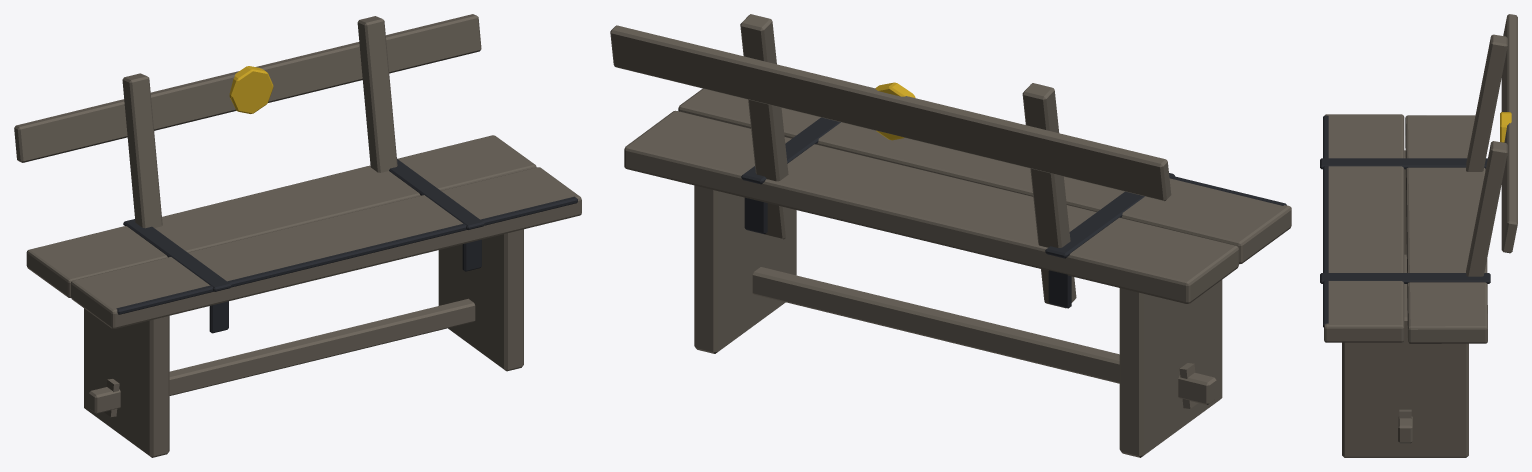
The model's file is SM_Bench_KeepGarrison_03.fbx.
3 renders of one model, left to right at view 1: azimuth 30°, elevation 25°; view 2: azimuth 150°, elevation 25°; view 3: azimuth 270°, elevation 25°, orthographic. The views are drawn at different scales.
Visible parts, largest first — view 1: SM_Bench_KeepGarrison_03_SeatPlank0, SM_Bench_KeepGarrison_03_SeatPlank1, SM_Bench_KeepGarrison_03_BackRail0, SM_Bench_KeepGarrison_03_TrestleL, SM_Bench_KeepGarrison_03_Stretcher, SM_Bench_KeepGarrison_03_TrestleR, SM_Bench_KeepGarrison_03_BackPost1, SM_Bench_KeepGarrison_03_BackPost0, SM_Bench_KeepGarrison_03_EdgeTrim, SM_Bench_KeepGarrison_03_StrapTop0, SM_Bench_KeepGarrison_03_Medallion, SM_Bench_KeepGarrison_03_StrapTop1 (+2 smaller); view 2: SM_Bench_KeepGarrison_03_SeatPlank1, SM_Bench_KeepGarrison_03_BackRail0, SM_Bench_KeepGarrison_03_SeatPlank0, SM_Bench_KeepGarrison_03_TrestleL, SM_Bench_KeepGarrison_03_Stretcher, SM_Bench_KeepGarrison_03_TrestleR, SM_Bench_KeepGarrison_03_BackPost1, SM_Bench_KeepGarrison_03_BackPost0, SM_Bench_KeepGarrison_03_StrapTop0, SM_Bench_KeepGarrison_03_StrapTop1, SM_Bench_KeepGarrison_03_StrapBack0, SM_Bench_KeepGarrison_03_StrapBack1; view 3: SM_Bench_KeepGarrison_03_SeatPlank0, SM_Bench_KeepGarrison_03_SeatPlank1, SM_Bench_KeepGarrison_03_TrestleR, SM_Bench_KeepGarrison_03_BackRail0, SM_Bench_KeepGarrison_03_BackPost0, SM_Bench_KeepGarrison_03_BackPost1, SM_Bench_KeepGarrison_03_StrapTop1, SM_Bench_KeepGarrison_03_StrapTop0, SM_Bench_KeepGarrison_03_EdgeTrim, SM_Bench_KeepGarrison_03_Stretcher, SM_Bench_KeepGarrison_03_Medallion, SM_Bench_KeepGarrison_03_TrestleL.
Part boxes in pixels (x1,y1,x2,y2): SM_Bench_KeepGarrison_03_SeatPlank0: (70,167,581,328); SM_Bench_KeepGarrison_03_SeatPlank1: (26,135,536,297); SM_Bench_KeepGarrison_03_BackRail0: (14,14,481,162); SM_Bench_KeepGarrison_03_TrestleL: (84,308,169,457); SM_Bench_KeepGarrison_03_Stretcher: (89,298,475,413); SM_Bench_KeepGarrison_03_TrestleR: (438,229,523,371); SM_Bench_KeepGarrison_03_BackPost1: (357,16,397,172); SM_Bench_KeepGarrison_03_BackPost0: (122,73,162,228); SM_Bench_KeepGarrison_03_EdgeTrim: (116,196,577,314); SM_Bench_KeepGarrison_03_StrapTop0: (123,219,231,291); SM_Bench_KeepGarrison_03_Medallion: (229,66,273,113); SM_Bench_KeepGarrison_03_StrapTop1: (389,159,484,229); SM_Bench_KeepGarrison_03_SeatPlank1: (624,110,1238,303); SM_Bench_KeepGarrison_03_BackRail0: (610,25,1171,201); SM_Bench_KeepGarrison_03_SeatPlank0: (678,88,1291,264); SM_Bench_KeepGarrison_03_TrestleL: (1119,280,1222,457); SM_Bench_KeepGarrison_03_Stretcher: (752,267,1216,404); SM_Bench_KeepGarrison_03_TrestleR: (694,185,796,353); SM_Bench_KeepGarrison_03_BackPost1: (740,14,794,239); SM_Bench_KeepGarrison_03_BackPost0: (1022,83,1076,308); SM_Bench_KeepGarrison_03_StrapTop0: (1045,173,1175,258); SM_Bench_KeepGarrison_03_StrapTop1: (741,117,840,184); SM_Bench_KeepGarrison_03_StrapBack0: (1048,270,1071,308); SM_Bench_KeepGarrison_03_StrapBack1: (744,197,767,234); SM_Bench_KeepGarrison_03_SeatPlank0: (1324,114,1404,342); SM_Bench_KeepGarrison_03_SeatPlank1: (1405,115,1487,343); SM_Bench_KeepGarrison_03_TrestleR: (1342,310,1468,457); SM_Bench_KeepGarrison_03_BackRail0: (1501,14,1517,253); SM_Bench_KeepGarrison_03_BackPost0: (1466,34,1507,171); SM_Bench_KeepGarrison_03_BackPost1: (1466,141,1507,276); SM_Bench_KeepGarrison_03_StrapTop1: (1320,273,1490,283); SM_Bench_KeepGarrison_03_StrapTop0: (1320,158,1487,169); SM_Bench_KeepGarrison_03_EdgeTrim: (1323,115,1328,327); SM_Bench_KeepGarrison_03_Stretcher: (1398,254,1412,443); SM_Bench_KeepGarrison_03_Medallion: (1500,112,1511,142); SM_Bench_KeepGarrison_03_TrestleL: (1404,150,1406,254).
Size of the model in its own units: 1.3 by 0.8052 by 0.5101.
